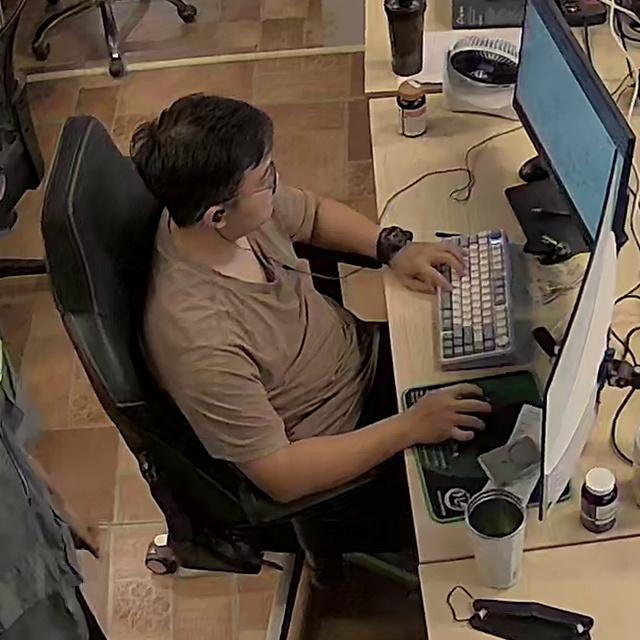no_helmet: (131, 93, 270, 228)
none: (142, 182, 387, 503)
